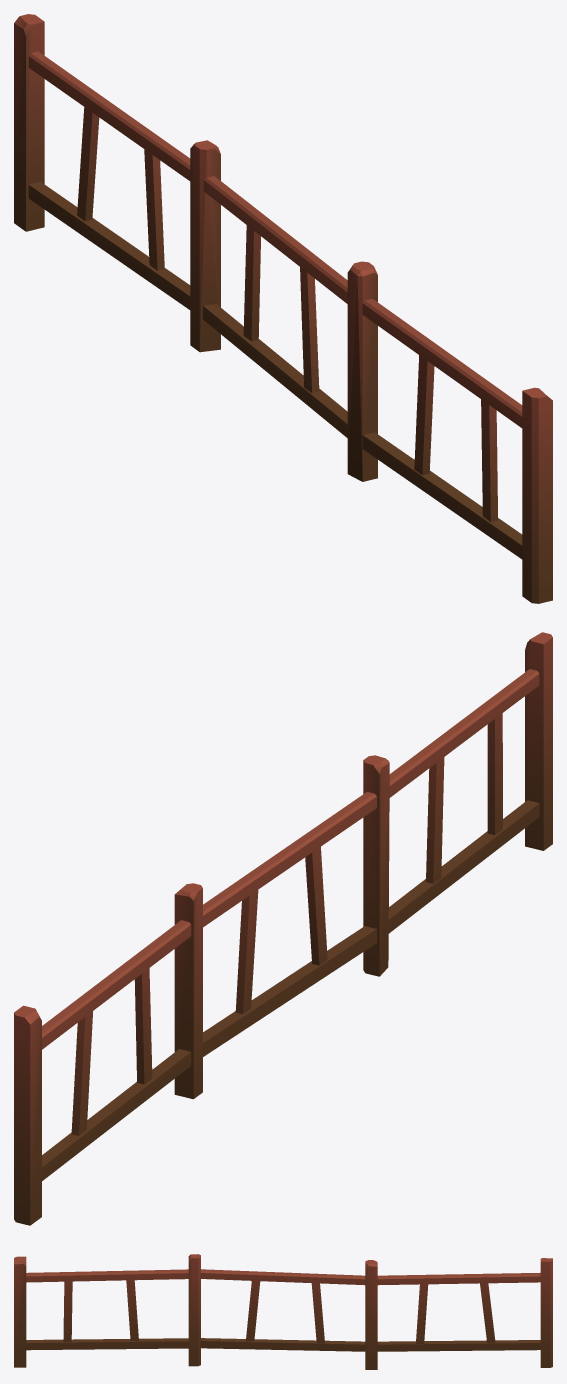
File: fencestraight3.glb
3 renders of one model, top to bottom at view 1: azimuth 30°, elevation 25°; view 2: azimuth 150°, elevation 25°; view 3: azimuth 270°, elevation 25°, orthographic. The views are drawn at different scales.
Visible parts, largest first — view 1: FenceStraight3_mesh1; view 2: FenceStraight3_mesh1; view 3: FenceStraight3_mesh1.
Part boxes in pixels (x1,y1,x2,y2): FenceStraight3_mesh1: [14, 14, 552, 603]; FenceStraight3_mesh1: [14, 632, 552, 1225]; FenceStraight3_mesh1: [14, 1254, 552, 1369].
Bounding box in the file's own units: 0.2113 × 1.29 × 5.84.
Materials: 1 (1 with a texture image).
